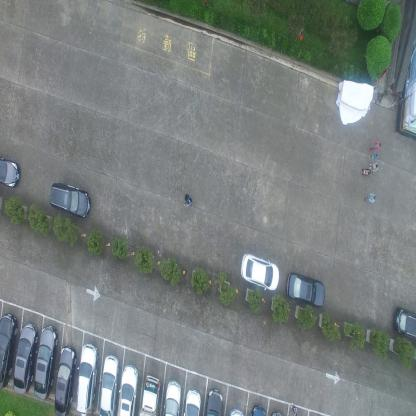car: (34, 325, 58, 401), (13, 323, 38, 395), (76, 342, 100, 415), (55, 344, 78, 414), (240, 250, 279, 291), (0, 313, 20, 391), (285, 269, 326, 306), (48, 183, 91, 218), (100, 354, 121, 414), (116, 365, 140, 415), (391, 302, 416, 340), (140, 374, 160, 414), (162, 379, 181, 415), (0, 155, 20, 188), (204, 387, 223, 415), (183, 388, 202, 414), (249, 402, 268, 414), (228, 406, 245, 414)
